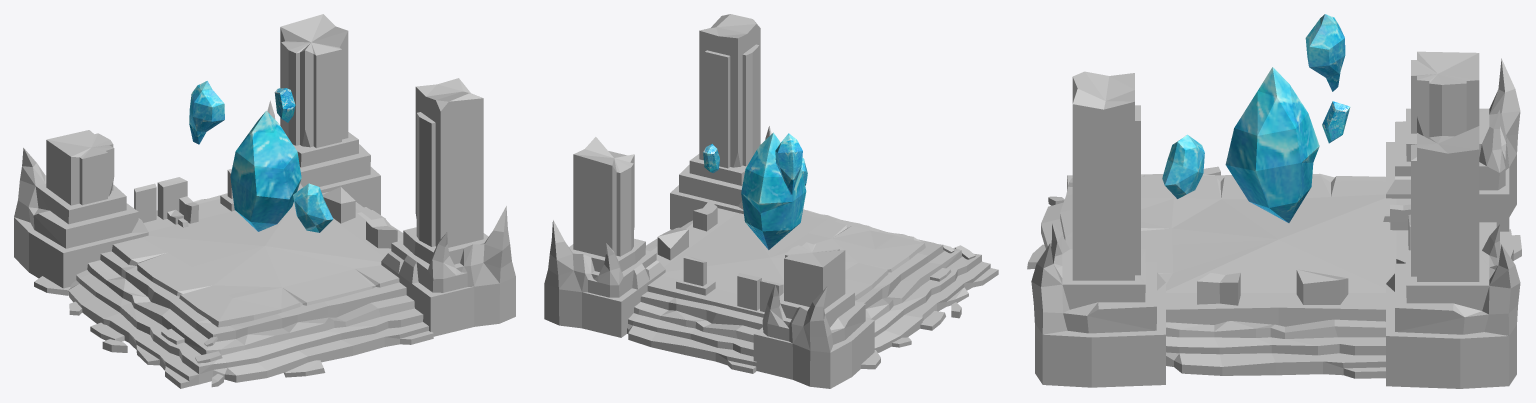
Rendered from BottomBlueBase.FBX.
The picture shows the model from 3 angles, left to right: view 1: azimuth 30°, elevation 25°; view 2: azimuth 150°, elevation 25°; view 3: azimuth 270°, elevation 25°; orthographic projection. The views are drawn at different scales.
Parts seen in each view (by area): view 1: BottomBlueBase, BottomBlueBase_crystal01, BottomBlueBase_crystal02, BottomBlueBase_crystal03, BottomBlueBase_crystal04; view 2: BottomBlueBase, BottomBlueBase_crystal01, BottomBlueBase_crystal02, BottomBlueBase_crystal04; view 3: BottomBlueBase, BottomBlueBase_crystal01, BottomBlueBase_crystal02, BottomBlueBase_crystal03, BottomBlueBase_crystal04.
Boxes of the visible parts, x1,y1,x2,y2 form: BottomBlueBase: (14, 14, 515, 388); BottomBlueBase_crystal01: (230, 110, 301, 231); BottomBlueBase_crystal02: (189, 81, 224, 144); BottomBlueBase_crystal03: (293, 183, 333, 232); BottomBlueBase_crystal04: (274, 88, 295, 122); BottomBlueBase: (544, 14, 998, 388); BottomBlueBase_crystal01: (741, 132, 806, 249); BottomBlueBase_crystal02: (775, 133, 802, 194); BottomBlueBase_crystal04: (703, 144, 719, 173); BottomBlueBase: (1027, 51, 1521, 388); BottomBlueBase_crystal01: (1225, 67, 1319, 222); BottomBlueBase_crystal02: (1305, 14, 1345, 91); BottomBlueBase_crystal03: (1162, 134, 1204, 198); BottomBlueBase_crystal04: (1322, 101, 1350, 143).
Bounding box in the file's own units: 1010 × 624 × 990.
